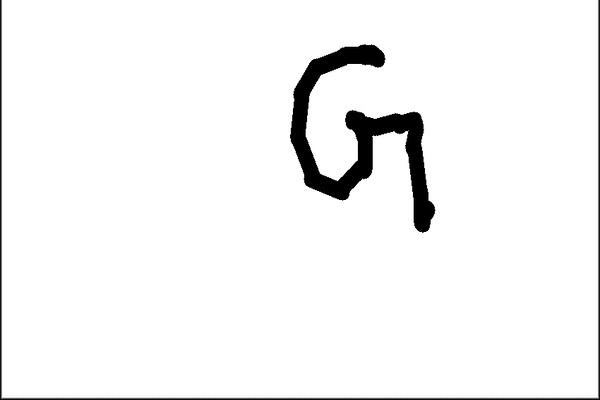G: (283, 38, 440, 235)
